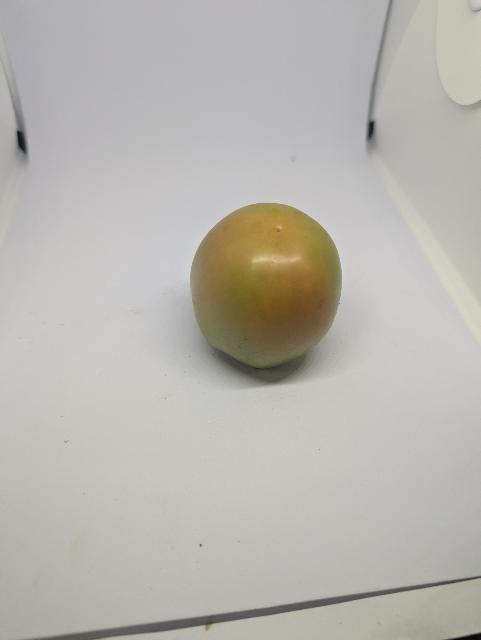breaker: (191, 203, 342, 368)
